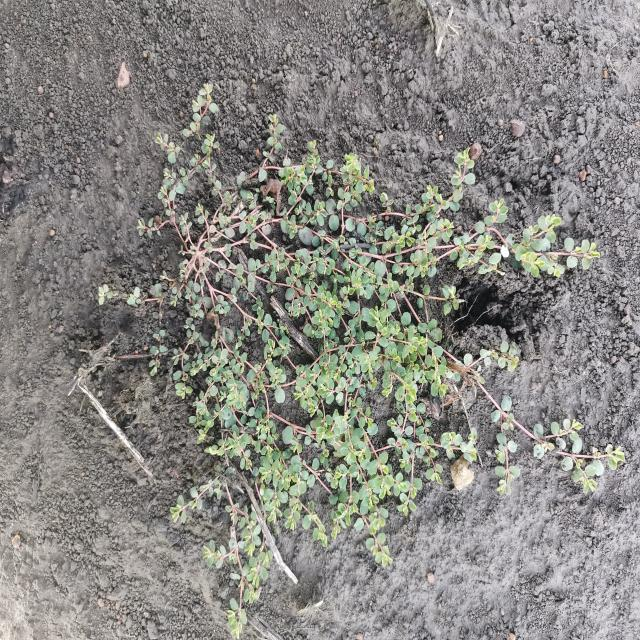SpottedSpurge: (95, 79, 630, 634)
